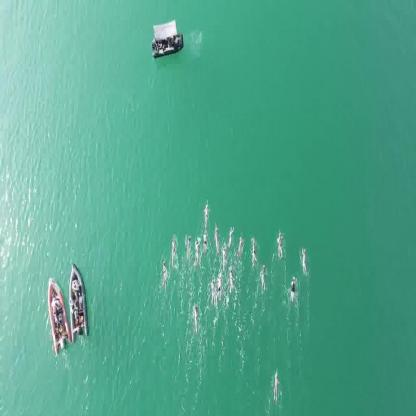Boat: (68, 262, 90, 338), (46, 281, 68, 349)
